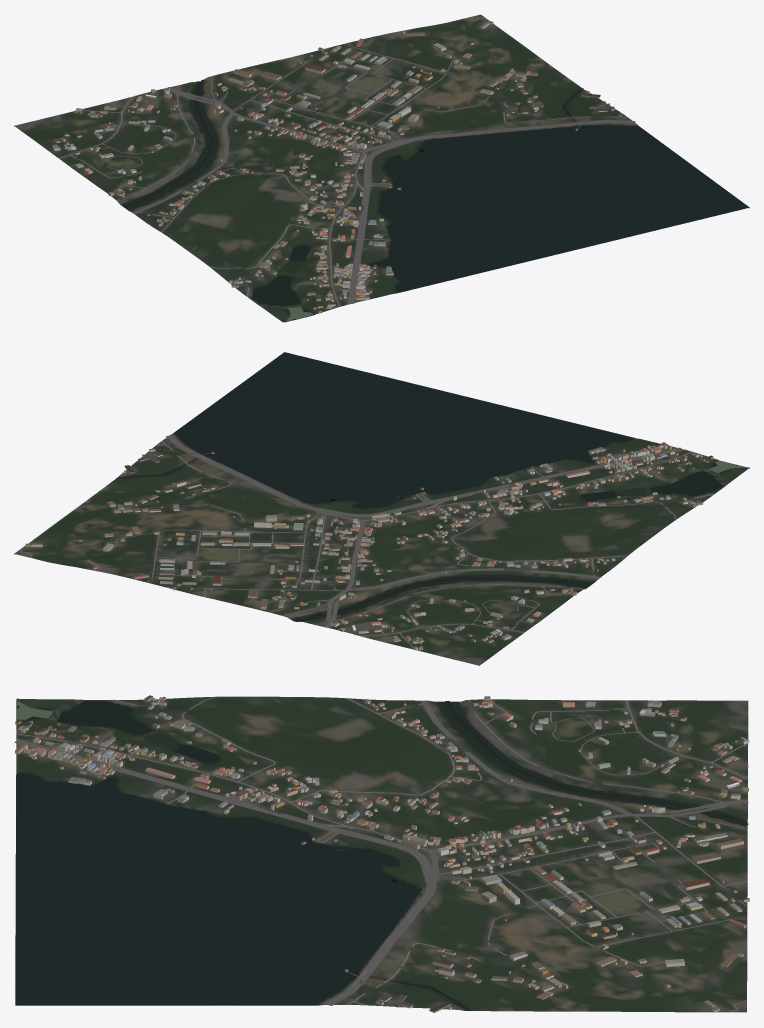
The picture shows the model from 3 angles, top to bottom: view 1: azimuth 30°, elevation 25°; view 2: azimuth 150°, elevation 25°; view 3: azimuth 270°, elevation 25°; orthographic projection. The views are drawn at different scales.
Parts seen in each view (by area): view 1: ground, water, buildings, roads; view 2: ground, water, buildings, roads; view 3: ground, water, buildings, roads.
Part boxes in pixels (left/top/right/bottom): ground: left=14, top=14, right=749, bottom=322; water: left=121, top=79, right=748, bottom=321; buildings: left=52, top=20, right=614, bottom=313; roads: left=59, top=18, right=635, bottom=306; ground: left=14, top=355, right=749, bottom=665; water: left=116, top=352, right=745, bottom=621; buildings: left=25, top=442, right=713, bottom=650; roads: left=20, top=435, right=713, bottom=649; ground: left=15, top=696, right=748, bottom=1012; water: left=15, top=700, right=748, bottom=1010; buildings: left=15, top=695, right=749, bottom=1012; roads: left=14, top=696, right=748, bottom=1012.
Size of the model in its own units: 1422 by 30.79 by 1410.
